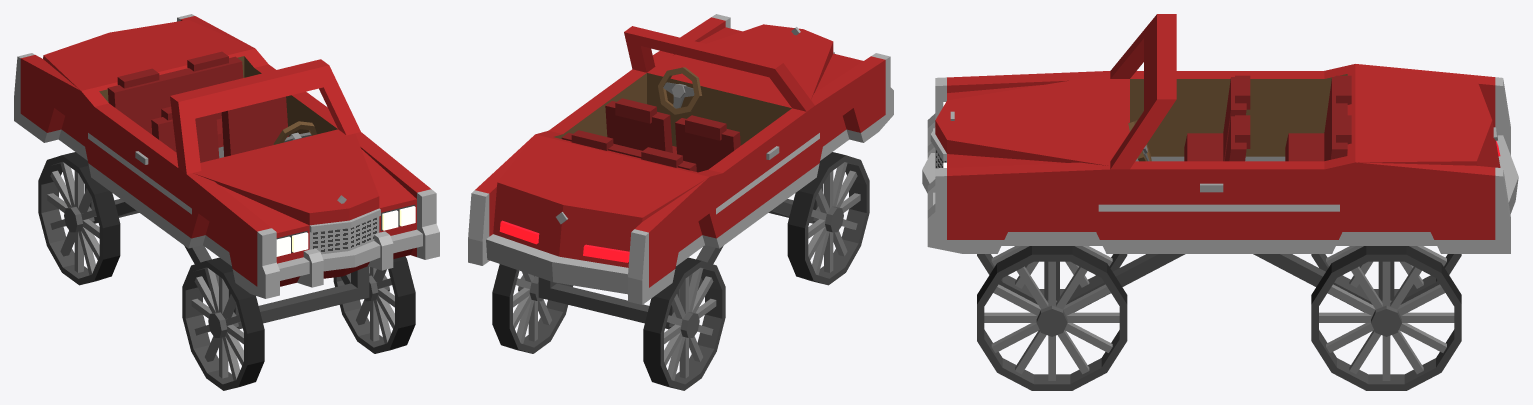
The model's file is caddy.fbx.
3 views of the same model, side by side, from view 1: azimuth 30°, elevation 25°; view 2: azimuth 150°, elevation 25°; view 3: azimuth 270°, elevation 25° (orthographic). The views are drawn at different scales.
Visible parts, largest first — view 1: Cube, Cylinder.002, Cylinder.004, Cylinder.001, FRONT, Cylinder.003; view 2: Cube, Cylinder.004, Cylinder.002, Cylinder.000, Cylinder.003, REAR; view 3: Cube, Cylinder.000, Cylinder.001, Cylinder.002, Cylinder.004.
Part boxes in pixels (bbox=[...]): Cube: bbox=[14, 14, 439, 329]; Cylinder.002: bbox=[182, 257, 264, 390]; Cylinder.004: bbox=[38, 152, 120, 285]; Cylinder.001: bbox=[333, 256, 415, 353]; FRONT: bbox=[276, 206, 415, 256]; Cylinder.003: bbox=[273, 121, 316, 144]; Cube: bbox=[468, 14, 893, 329]; Cylinder.004: bbox=[643, 257, 725, 390]; Cylinder.002: bbox=[787, 152, 869, 285]; Cylinder.000: bbox=[492, 264, 572, 353]; Cylinder.003: bbox=[658, 67, 701, 114]; REAR: bbox=[499, 220, 629, 262]; Cube: bbox=[922, 14, 1518, 312]; Cylinder.000: bbox=[1311, 246, 1461, 390]; Cylinder.001: bbox=[977, 246, 1127, 390]; Cylinder.002: bbox=[977, 246, 1127, 304]; Cylinder.004: bbox=[1311, 246, 1461, 304].
Size of the model in its own units: 310 by 407 by 767.
